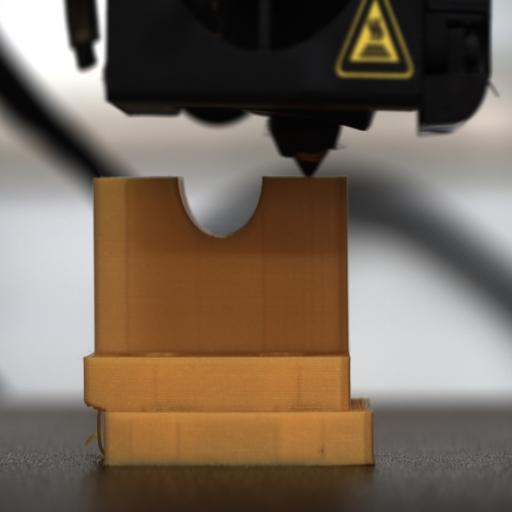layer_shift: (84, 392, 376, 416)
